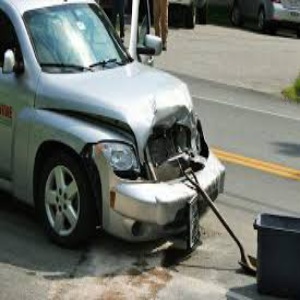bonnet: (117, 78, 203, 135)
bumper: (110, 171, 237, 248)
head_lights: (95, 140, 146, 184)
